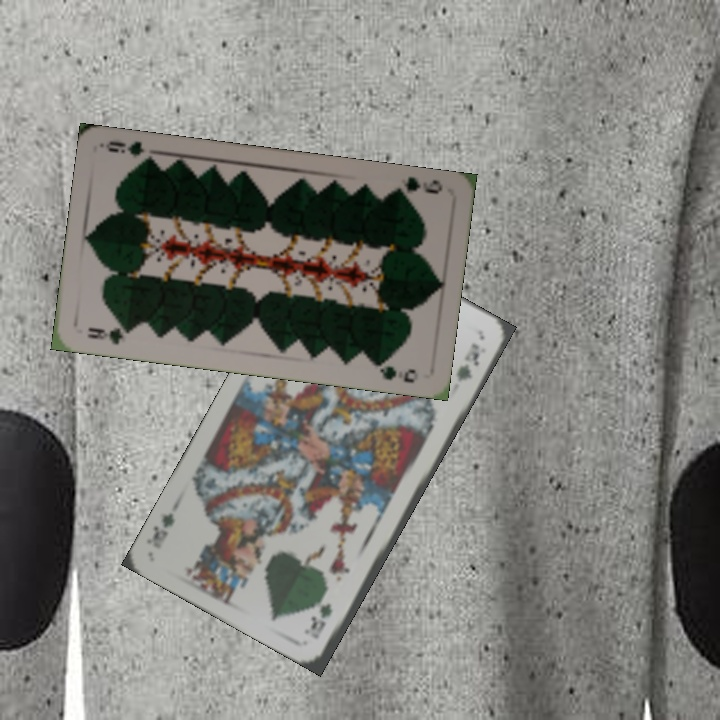G9: (388, 172, 445, 199), (83, 323, 138, 347)
GK: (303, 599, 335, 642)
